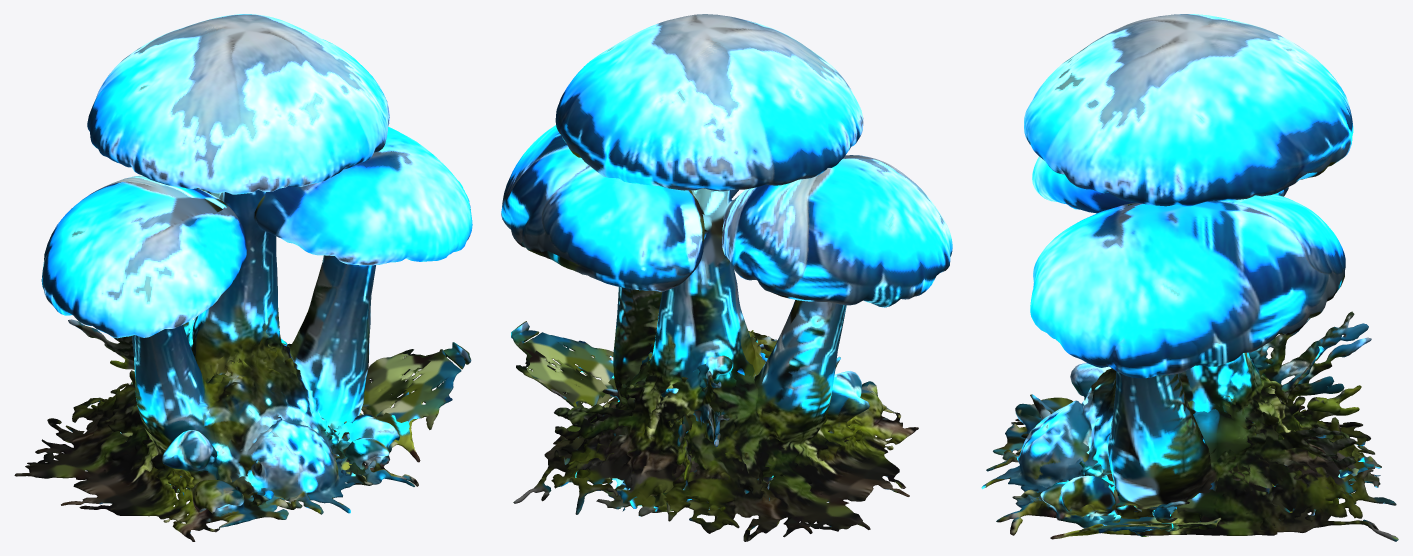
File: cf_blue_mushroom_cluster.glb
3 views of the same model, side by side, from view 1: azimuth 30°, elevation 25°; view 2: azimuth 150°, elevation 25°; view 3: azimuth 270°, elevation 25° (orthographic). The views are drawn at different scales.
Visible parts, largest first — view 1: geometry_0; view 2: geometry_0; view 3: geometry_0.
Part boxes in pixels (<box>): geometry_0: <box>14,14,472,541</box>; geometry_0: <box>501,14,952,541</box>; geometry_0: <box>981,14,1398,541</box>.
Size of the model in its own units: 2.31 by 2.3 by 1.88.
1 material, 1 textured.
